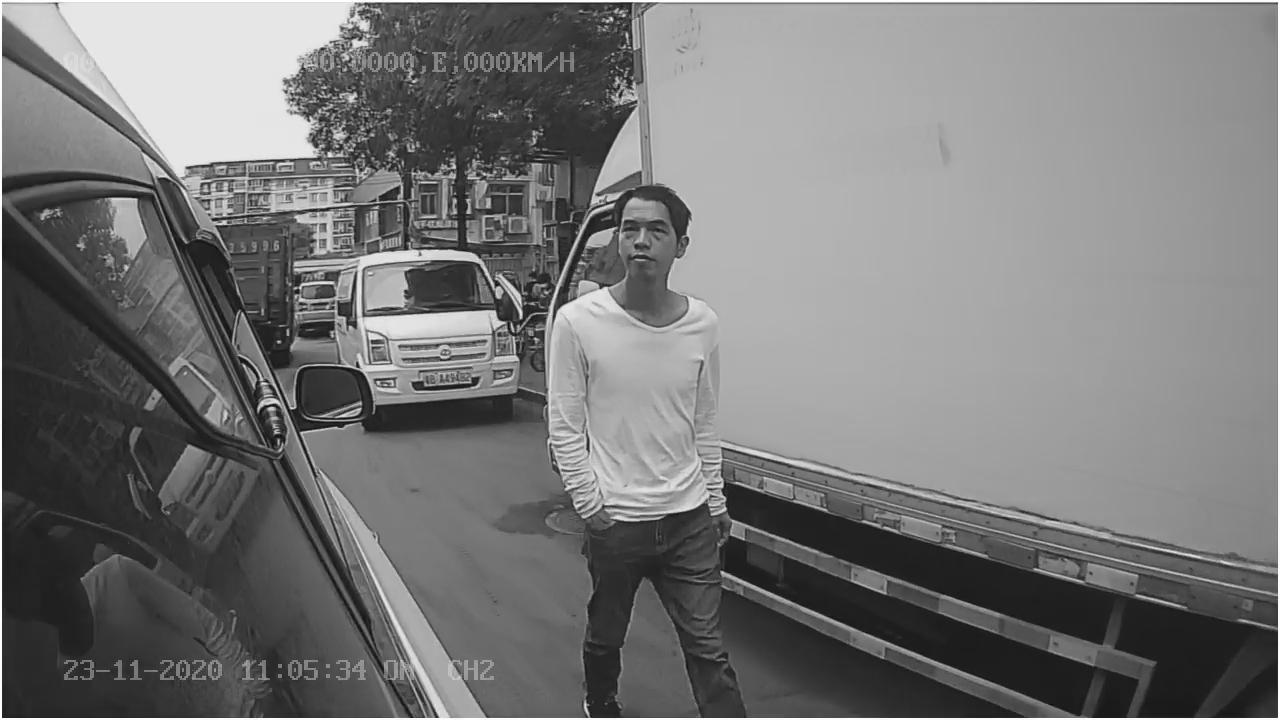person: (544, 185, 745, 686)
